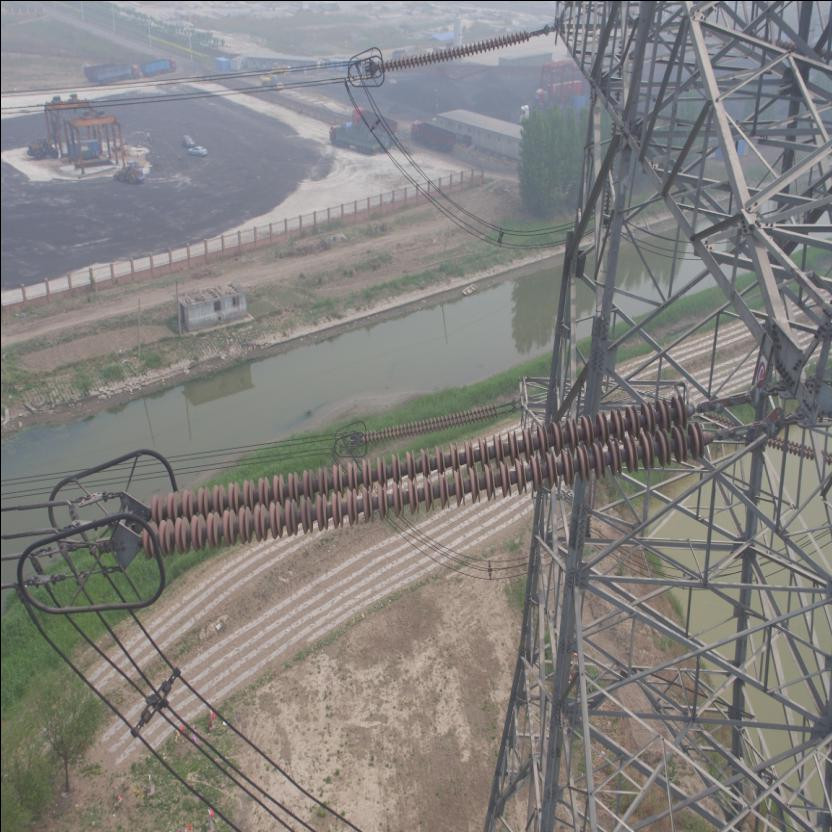insulator: (129, 386, 728, 562), (371, 25, 538, 72)
